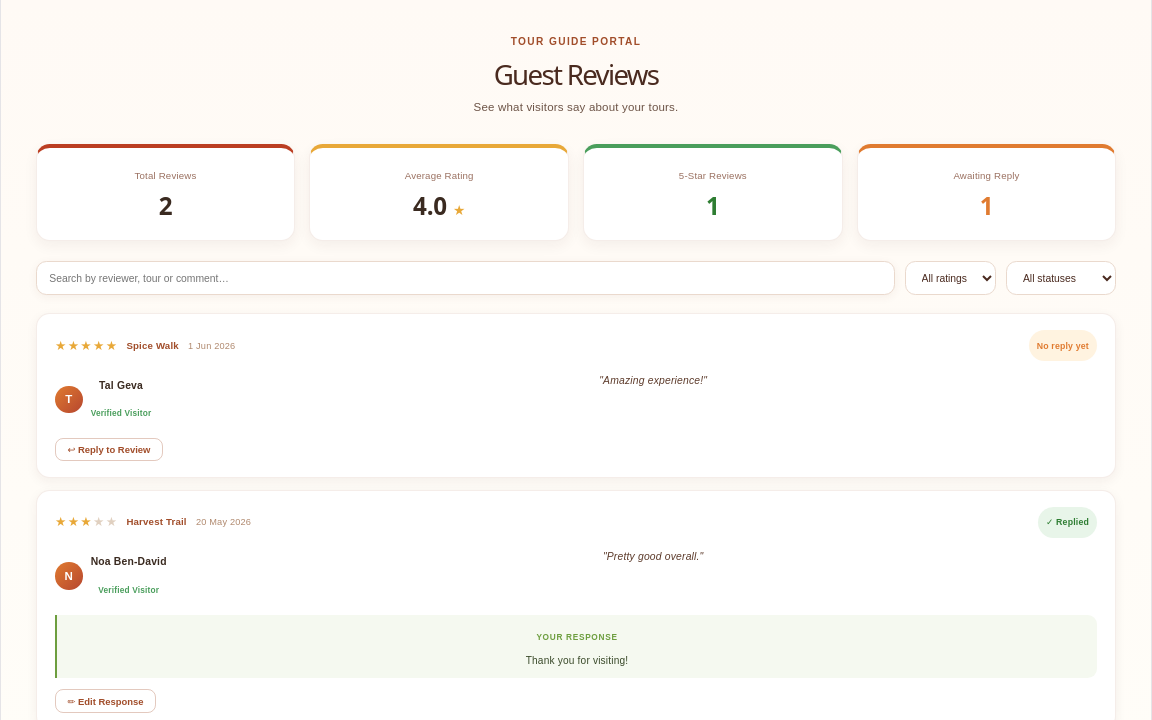
Test: reply form › opens reply textarea when reply button is clicked
Expected: the text "Tal Geva" is shown, top-left (99, 380), bottom-right (143, 390)
Click the button "↩ Reply to Review": (109, 450) top-left (55, 438), bottom-right (163, 461)
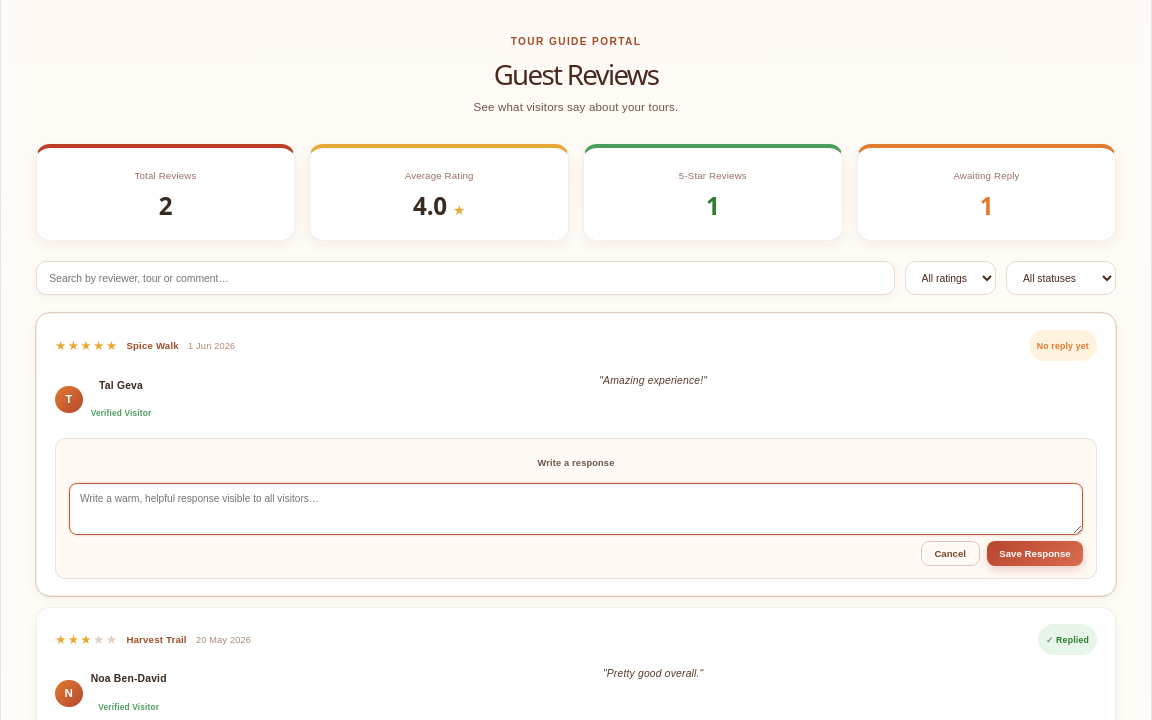
Expected: the text box with placeholder "Write a warm, helpful response visible to all visitors…" is shown, top-left (69, 484), bottom-right (1083, 535)
